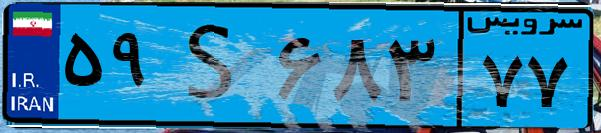3: (385, 28, 445, 110)
5: (57, 26, 110, 100)
6: (270, 28, 330, 110)
7: (475, 38, 525, 113), (525, 38, 570, 115)
8: (330, 28, 385, 110)
9: (110, 28, 158, 98)
S: (158, 12, 270, 120)
